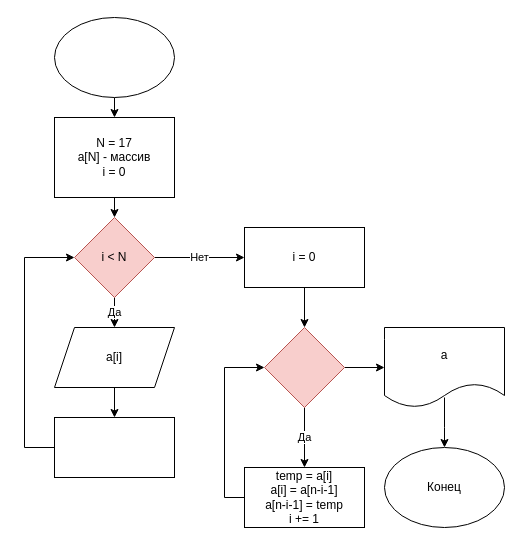
The diagram is 522 pixels wide and 545 high, and some of its shapes have lost their labels. The shapes that lost their labels are listed below. From the top down, each one's centre as x and y in pixels, then its label:
point (114, 57): Задача 2
point (304, 367): i < N / 2
point (114, 447): i += 1
